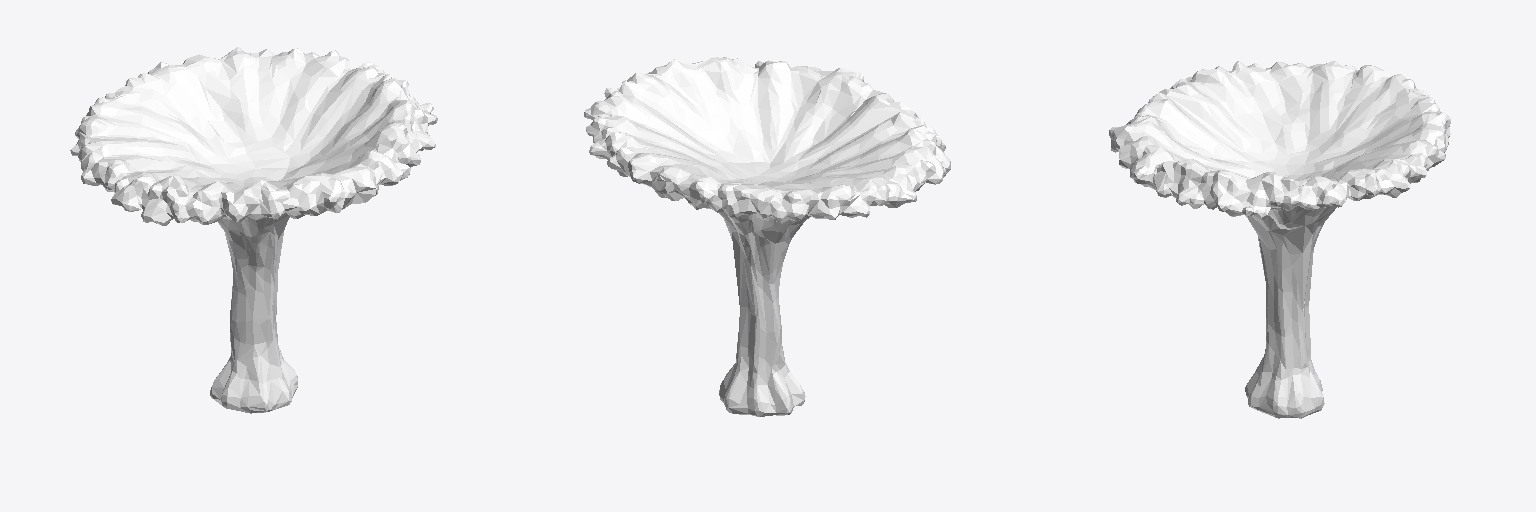
Rendered from TallCoral01.obj.
3 renders of one model, left to right at view 1: azimuth 30°, elevation 25°; view 2: azimuth 150°, elevation 25°; view 3: azimuth 270°, elevation 25°, orthographic.
Visible parts, largest first — view 1: TallCoral; view 2: TallCoral; view 3: TallCoral.
Part boxes in pixels (x1,y1,x2,y2): TallCoral: (70,47,437,413); TallCoral: (584,57,950,416); TallCoral: (1109,61,1450,418).
Bounding box in the file's own units: 332 × 290 × 306.